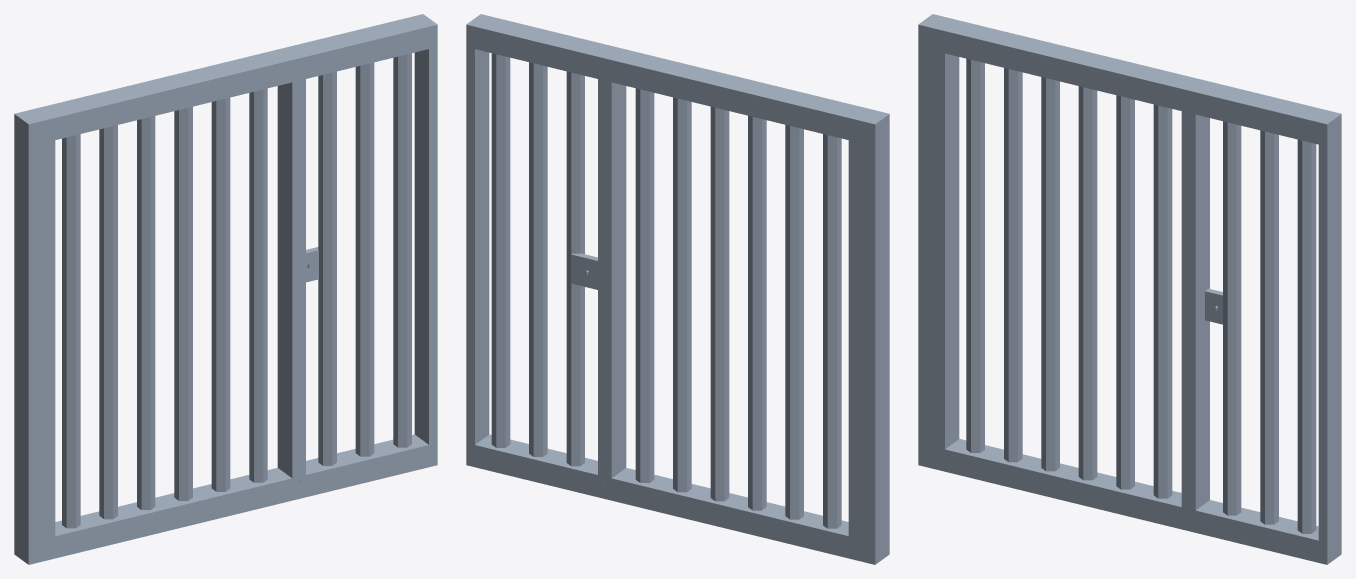
File: Prison_Door.glb
3 renders of one model, left to right at view 1: azimuth 30°, elevation 25°; view 2: azimuth 150°, elevation 25°; view 3: azimuth 330°, elevation 25°, orthographic.
Parts seen in each view (by area): view 1: Jail house 2nd floor JailcelldoorStatic-col, Jail house 2nd floor JailcelldoorDynamic-col; view 2: Jail house 2nd floor JailcelldoorStatic-col, Jail house 2nd floor JailcelldoorDynamic-col; view 3: Jail house 2nd floor JailcelldoorStatic-col, Jail house 2nd floor JailcelldoorDynamic-col.
Part boxes in pixels (x1=…): Jail house 2nd floor JailcelldoorStatic-col: x1=14, y1=48, x2=299, y2=564; Jail house 2nd floor JailcelldoorDynamic-col: x1=285, y1=14, x2=437, y2=498; Jail house 2nd floor JailcelldoorStatic-col: x1=604, y1=48, x2=889, y2=564; Jail house 2nd floor JailcelldoorDynamic-col: x1=466, y1=14, x2=618, y2=498; Jail house 2nd floor JailcelldoorStatic-col: x1=918, y1=14, x2=1202, y2=530; Jail house 2nd floor JailcelldoorDynamic-col: x1=1188, y1=80, x2=1341, y2=564.
Bounding box in the file's own units: 0.091 × 0.0937 × 0.0056.
